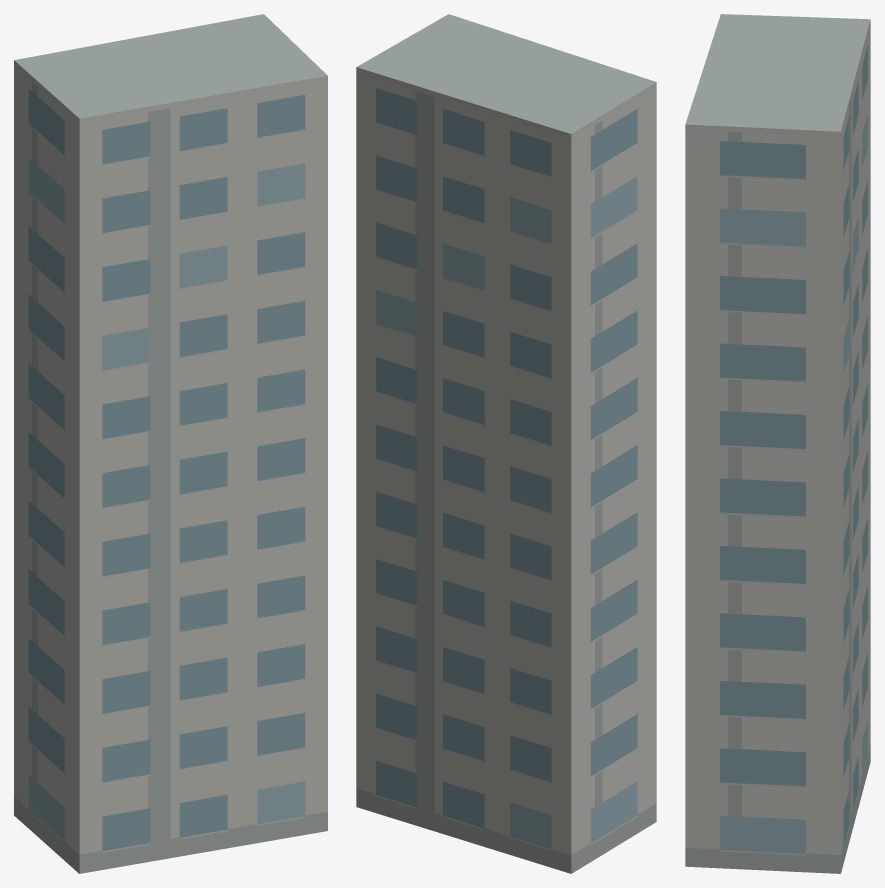
Rendered from survey-upis-32646715.glb.
3 renders of one model, left to right at view 1: azimuth 30°, elevation 25°; view 2: azimuth 150°, elevation 25°; view 3: azimuth 270°, elevation 25°, orthographic. The views are drawn at different scales.
Parts seen in each view (by area): view 1: survey-upis-32646715.tmp; view 2: survey-upis-32646715.tmp; view 3: survey-upis-32646715.tmp.
Part boxes in pixels (x1,y1,x2,y2): survey-upis-32646715.tmp: (14,14,327,873); survey-upis-32646715.tmp: (356,14,656,873); survey-upis-32646715.tmp: (685,14,870,873).
Size of the model in its own units: 11.42 by 33.55 by 7.6.
